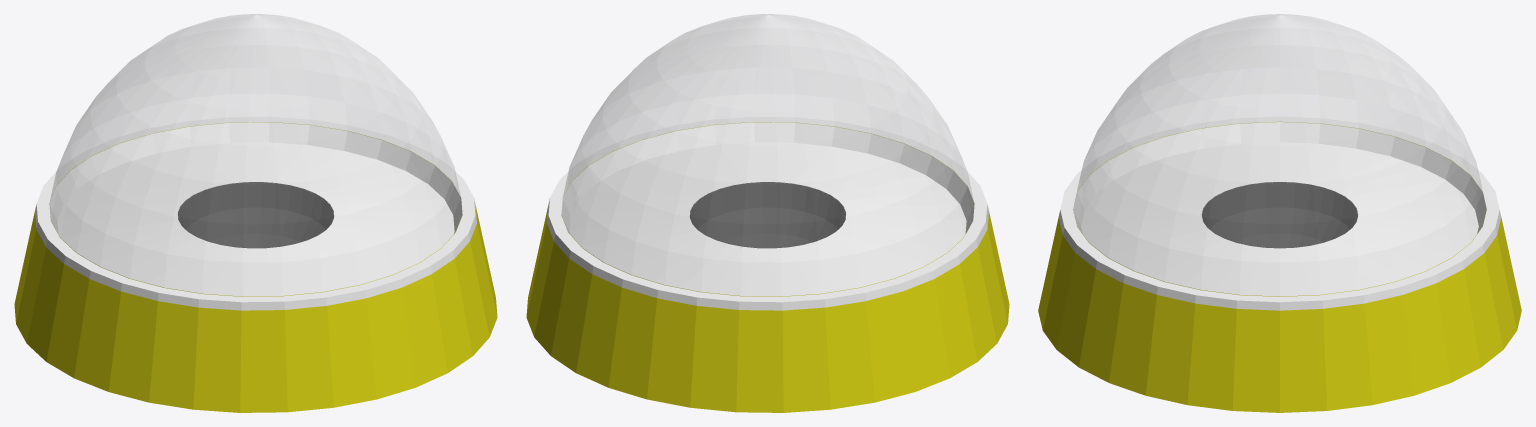
Rendered from incubator (1).fbx.
The picture shows the model from 3 angles, left to right: view 1: azimuth 30°, elevation 25°; view 2: azimuth 150°, elevation 25°; view 3: azimuth 270°, elevation 25°; orthographic projection.
Visible parts, largest first — view 1: Circle, Circle.008, Circle.001; view 2: Circle, Circle.008, Circle.001; view 3: Circle, Circle.008, Circle.001.
Boxes of the visible parts, bbox=[...] form: Circle: bbox=[14, 116, 497, 412]; Circle.008: bbox=[49, 14, 462, 296]; Circle.001: bbox=[177, 182, 334, 248]; Circle: bbox=[526, 116, 1009, 412]; Circle.008: bbox=[561, 14, 974, 296]; Circle.001: bbox=[689, 182, 846, 248]; Circle: bbox=[1038, 116, 1521, 412]; Circle.008: bbox=[1073, 14, 1486, 296]; Circle.001: bbox=[1201, 182, 1358, 248].
Size of the model in its own units: 424 by 286 by 424.
